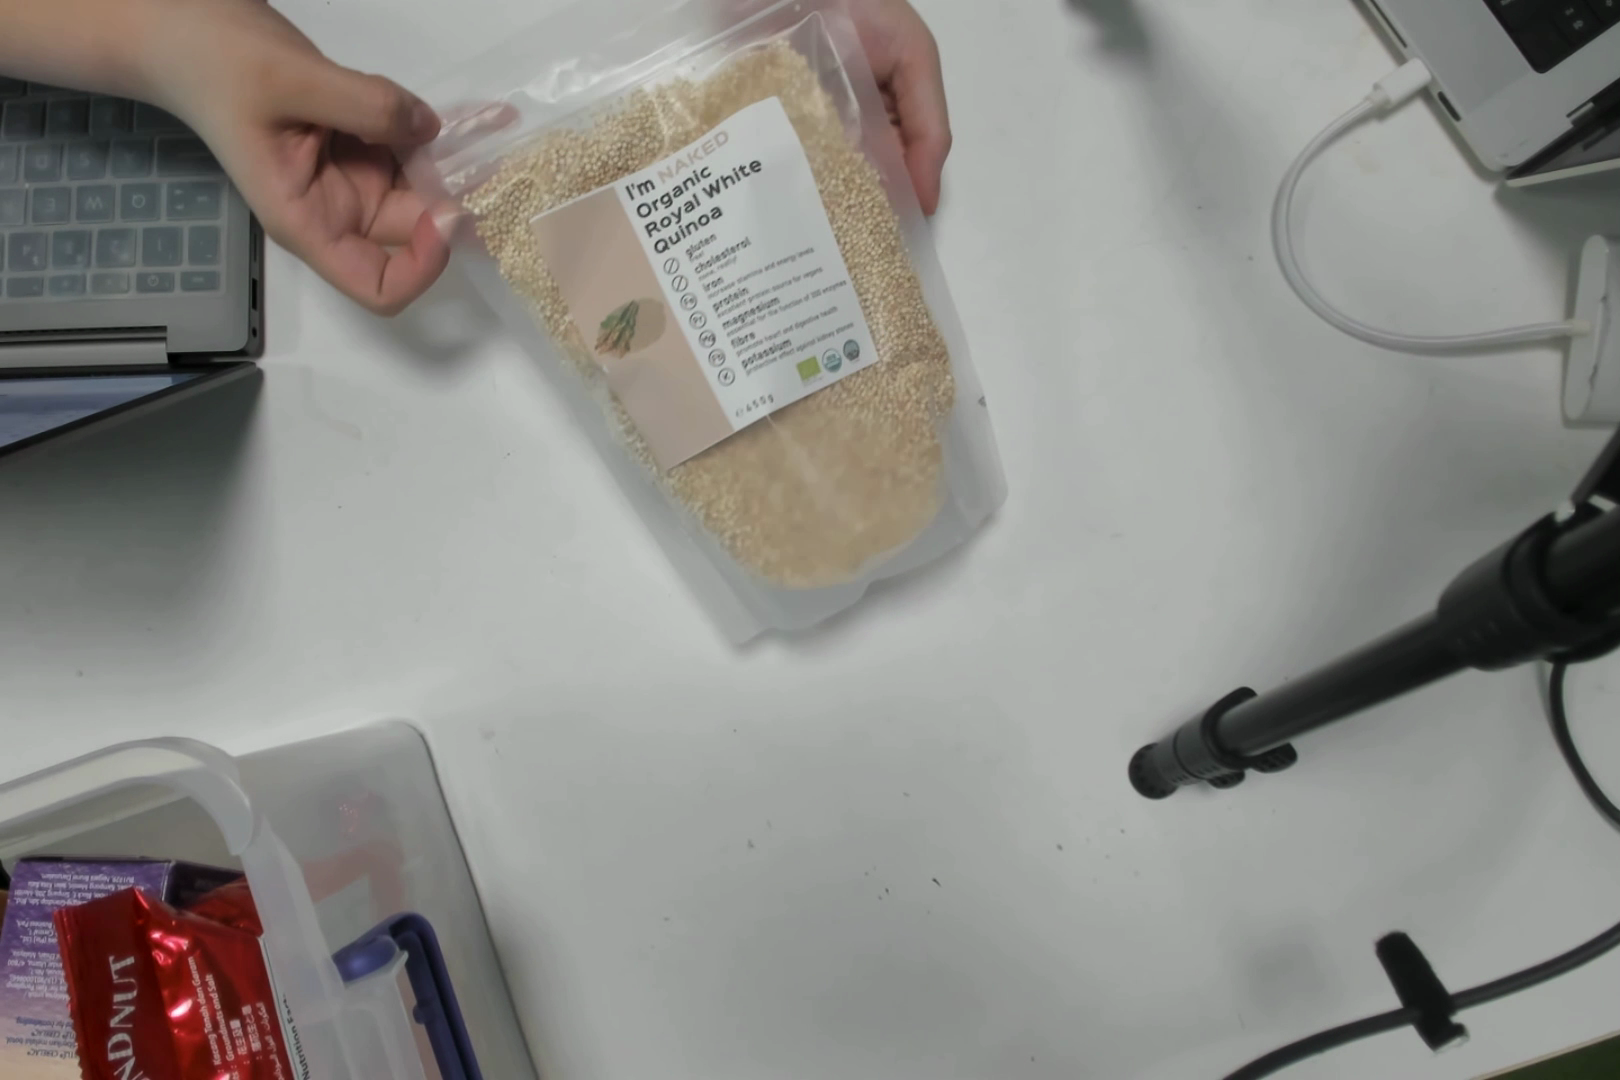Rice(brown-others)_400-499g_Halal_NonHealthy: (595, 142, 984, 569)
